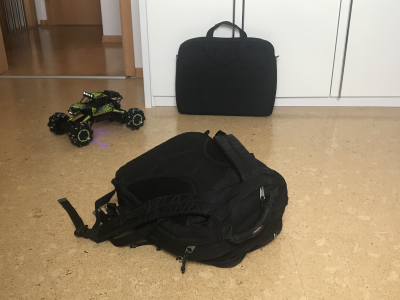remote control car: (46, 86, 146, 148)
